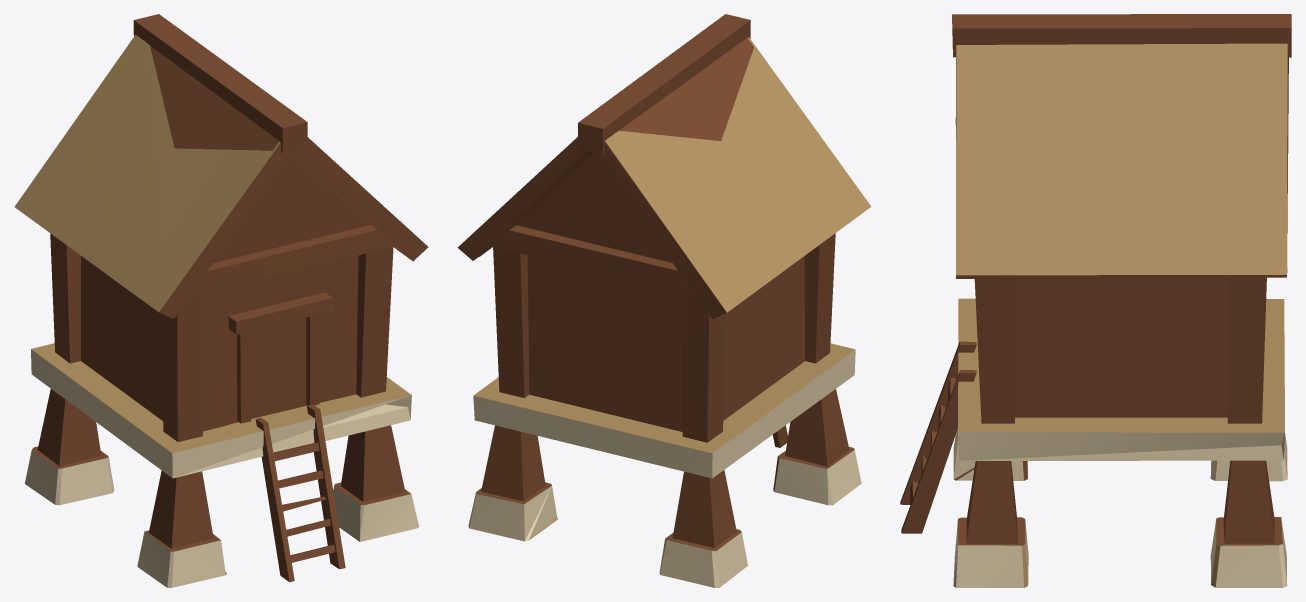
Rendered from supply.3.glb.
3 renders of one model, left to right at view 1: azimuth 30°, elevation 25°; view 2: azimuth 150°, elevation 25°; view 3: azimuth 270°, elevation 25°, orthographic. The views are drawn at different scales.
Visible parts, largest first — view 1: supply; view 2: supply; view 3: supply.
Boxes of the visible parts, <box> form: supply: <box>14,14,428,587</box>; supply: <box>457,14,871,587</box>; supply: <box>900,14,1291,587</box>.
Bounding box in the file's own units: 0.8207 × 1.26 × 0.9.
